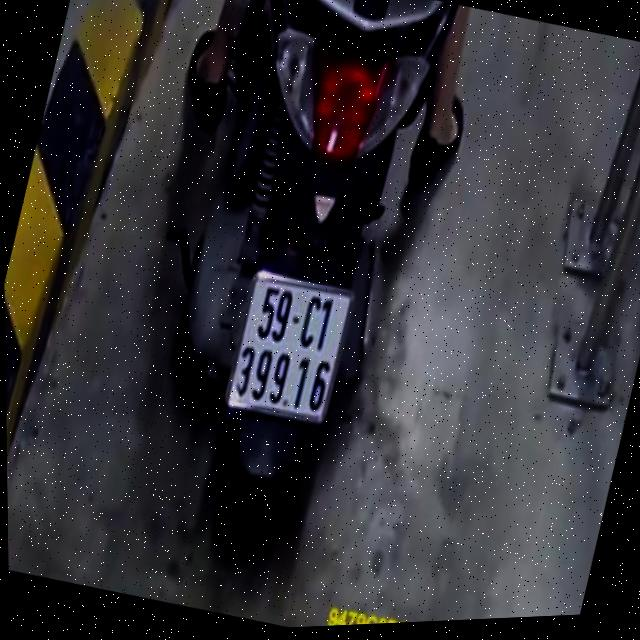motorcycle: (94, 0, 468, 588)
plate: (218, 261, 362, 434)
